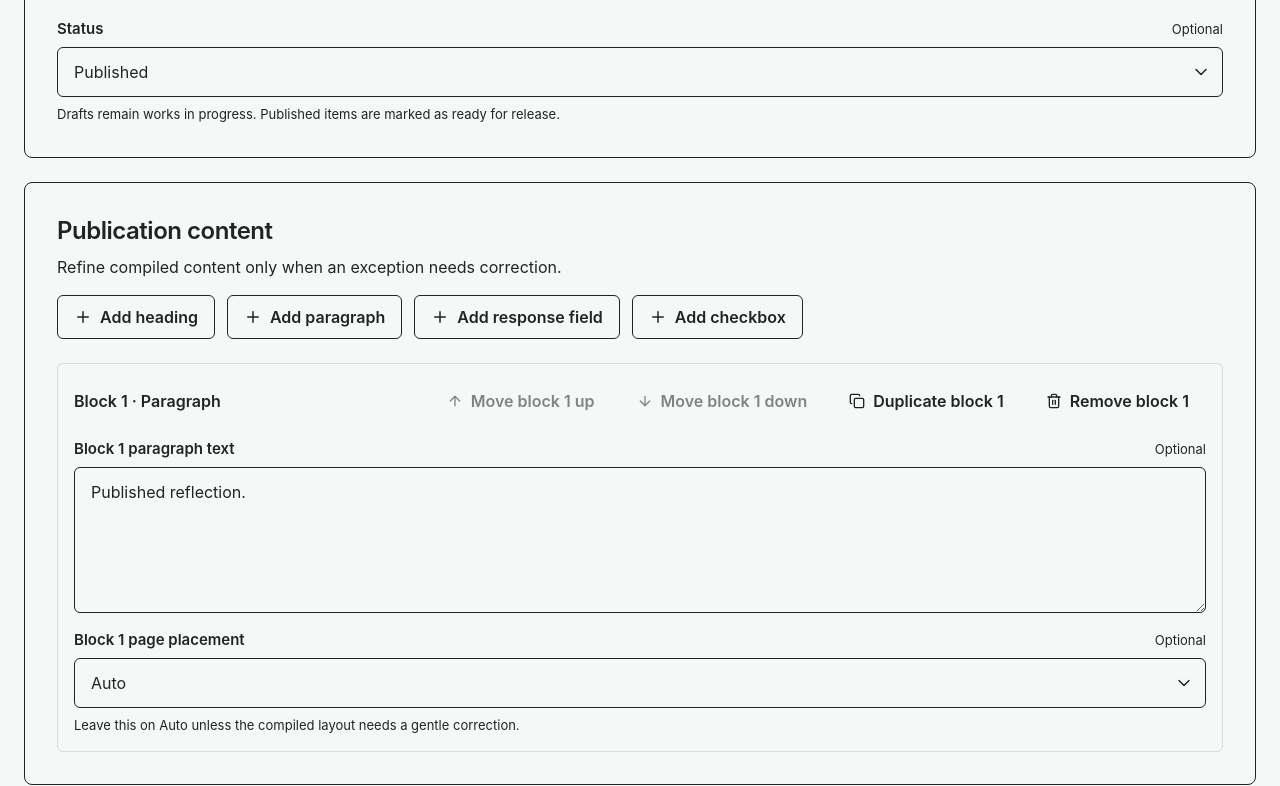
Test: PublicationEditorPage › returns a published publication to draft after structural edits
(page scrolled)
Expected: the dropdown labelled "Status" shows "Published", x1=57 y1=47 x2=1223 y2=97
Step 1. Click the button "Duplicate block 1" → [926, 400], box x1=832 y1=380 x2=1021 y2=422
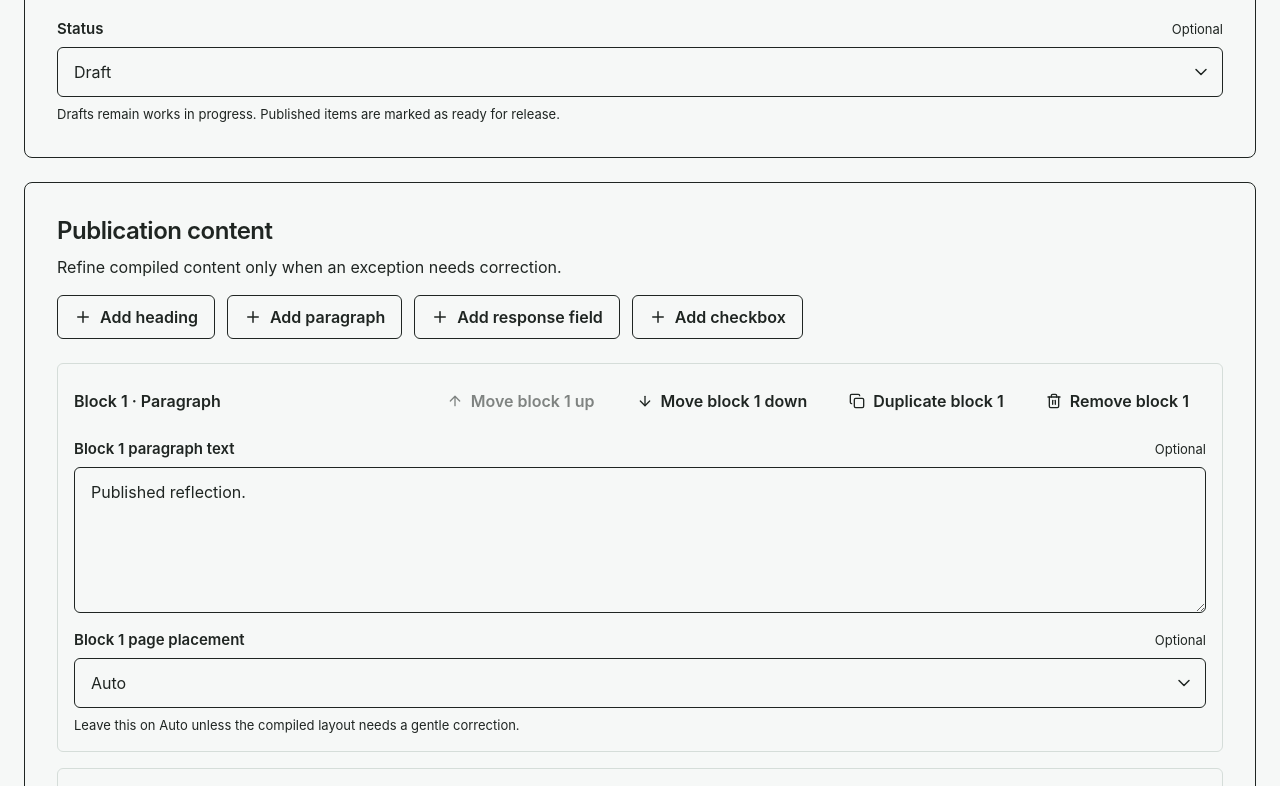
Expected: the dropdown labelled "Status" shows "Draft", x1=57 y1=47 x2=1223 y2=97
